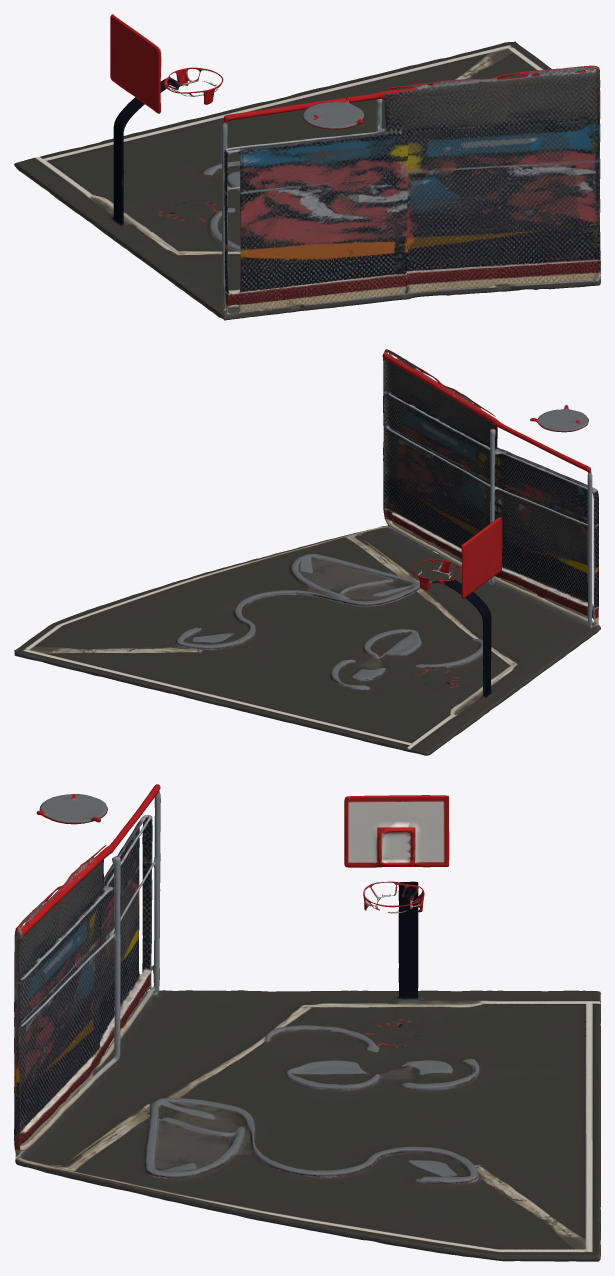
The model's file is venice_beach_court_model_fbx.fbx.
3 renders of one model, top to bottom at view 1: azimuth 30°, elevation 25°; view 2: azimuth 150°, elevation 25°; view 3: azimuth 270°, elevation 25°, orthographic. The views are drawn at different scales.
Visible parts, largest first — view 1: mesh_8add; view 2: mesh_8add; view 3: mesh_8add.
Boxes of the visible parts, x1,y1,x2,y2 form: mesh_8add: (14, 14, 600, 320); mesh_8add: (14, 349, 600, 755); mesh_8add: (14, 784, 600, 1261).
Size of the model in its own units: 2.85 by 1.2 by 2.66.
1 material, 1 textured.
